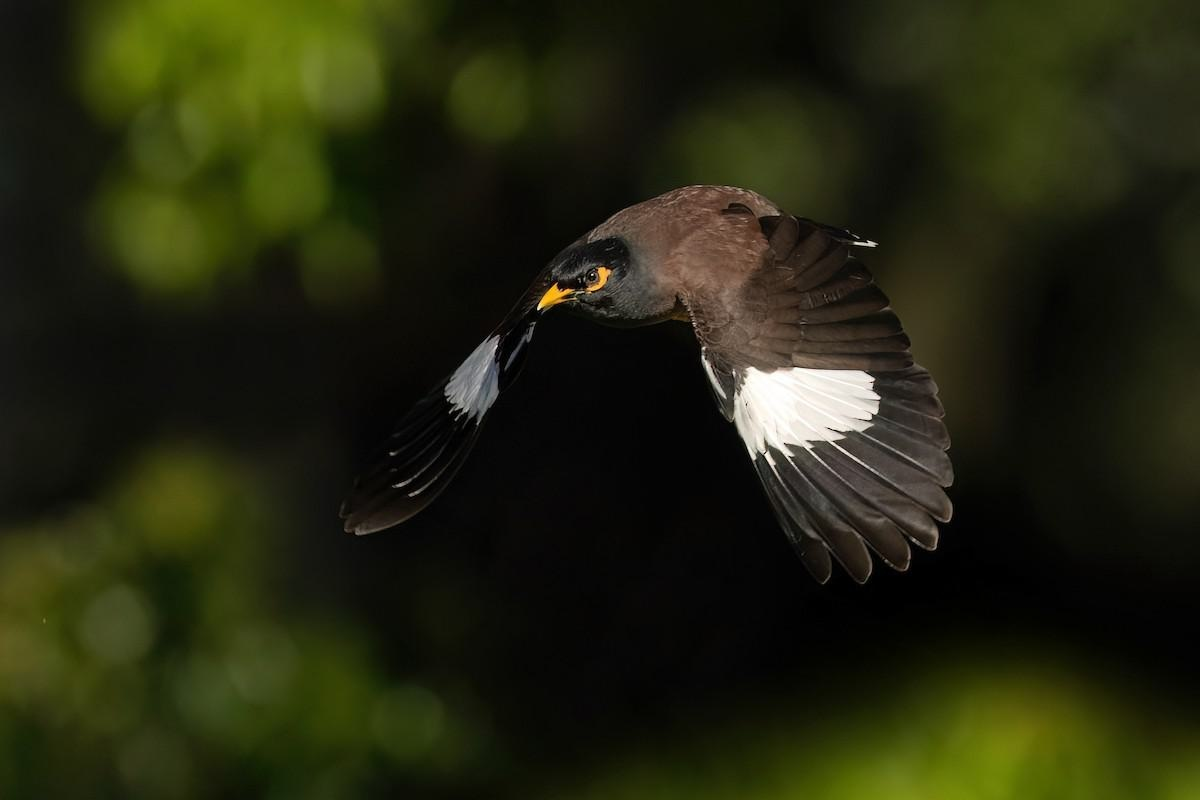myna: (430, 153, 986, 563)
